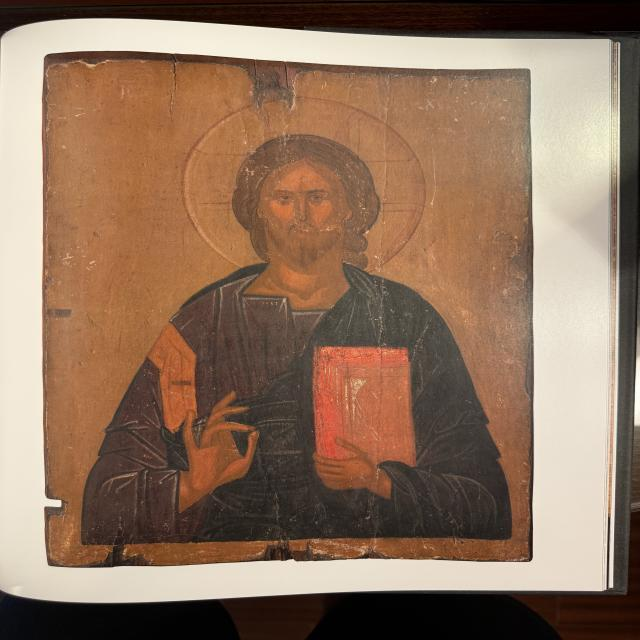aura: (176, 94, 433, 286)
book: (307, 343, 425, 491)
christ_hand: (77, 87, 520, 543), (166, 390, 270, 512)
